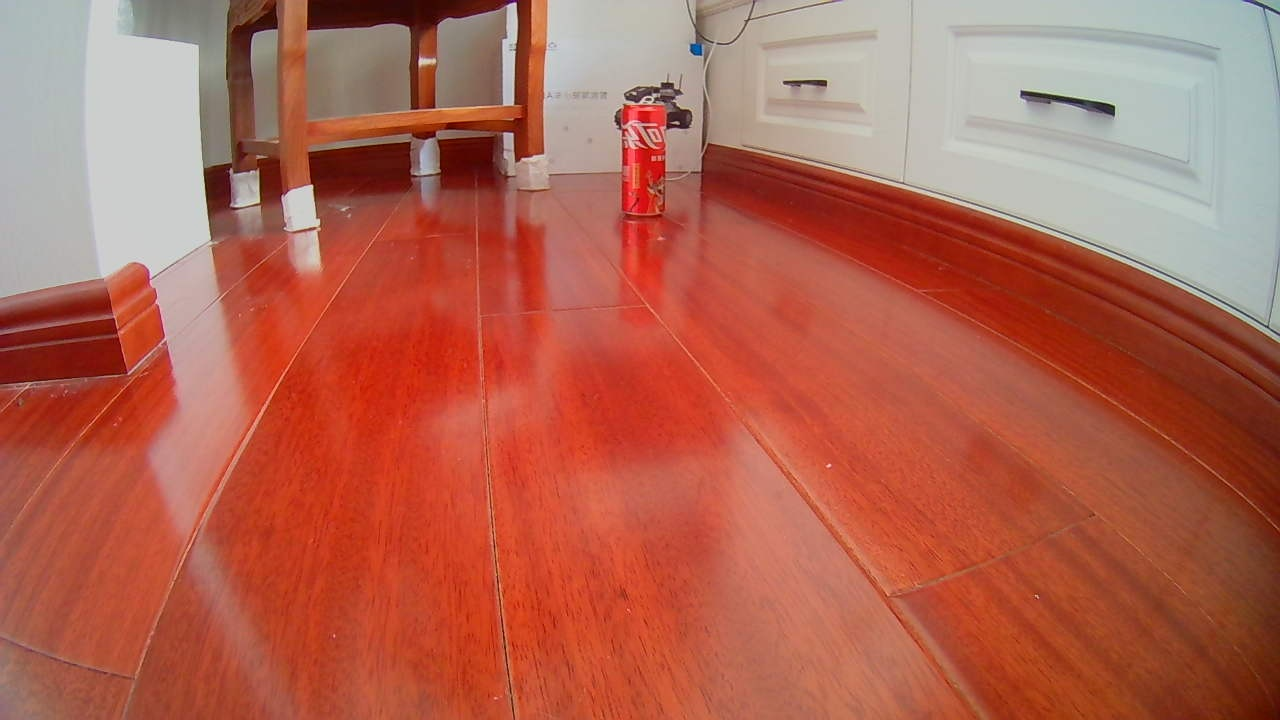cola: (620, 101, 667, 218)
